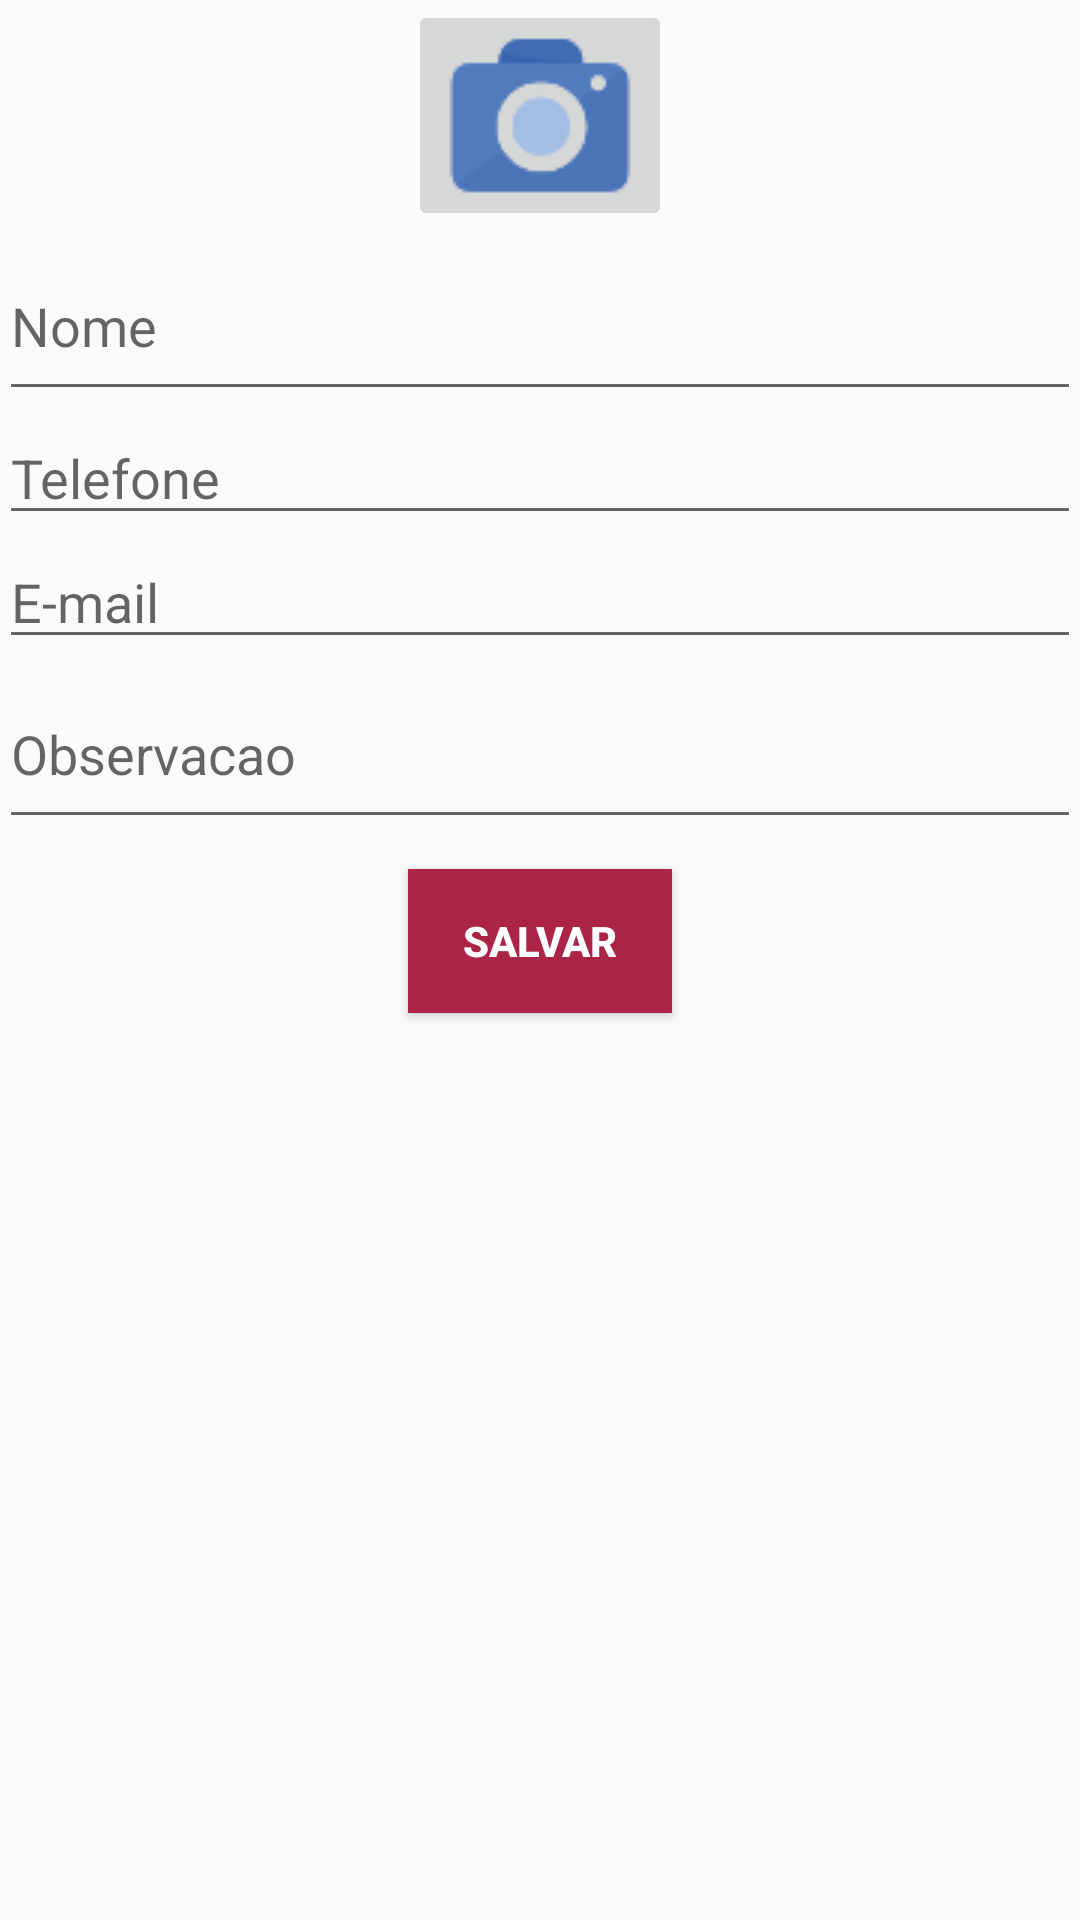

Locate icon controls on the screen. Image size 1080px×1920px, boxes as (x1, y1, x2, y2).
camera: (420, 18, 660, 213)
